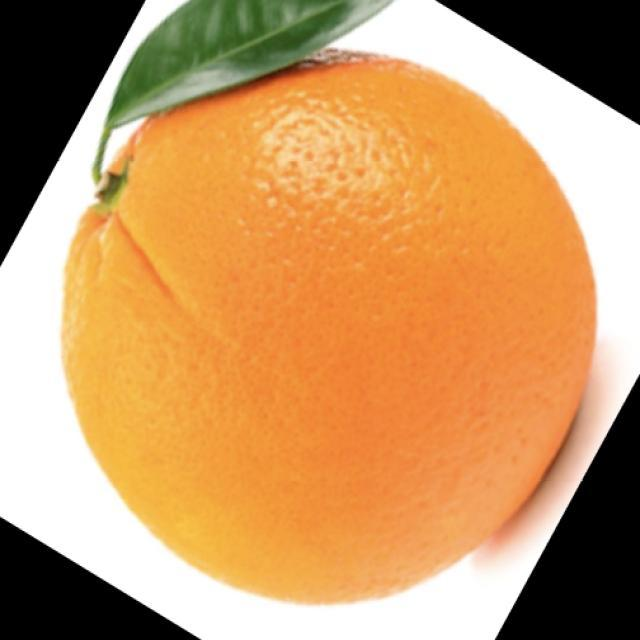matang: (61, 55, 593, 601), (266, 146, 272, 153)
